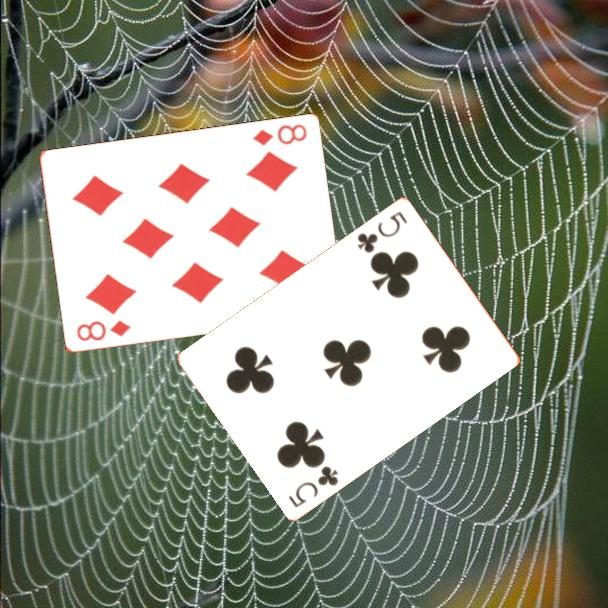c05: (353, 207, 410, 256), (285, 462, 342, 510)
d08: (249, 121, 309, 149), (73, 317, 133, 344)
